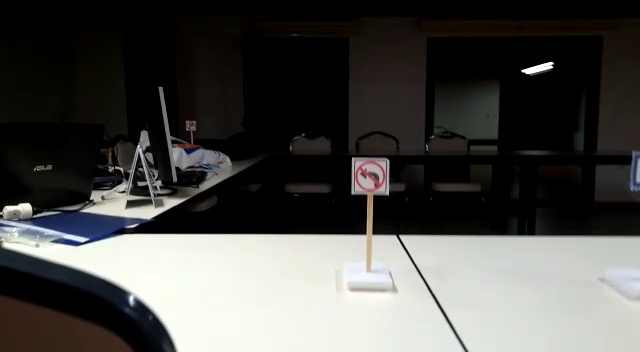sola_donulmez: (353, 159, 388, 193)
